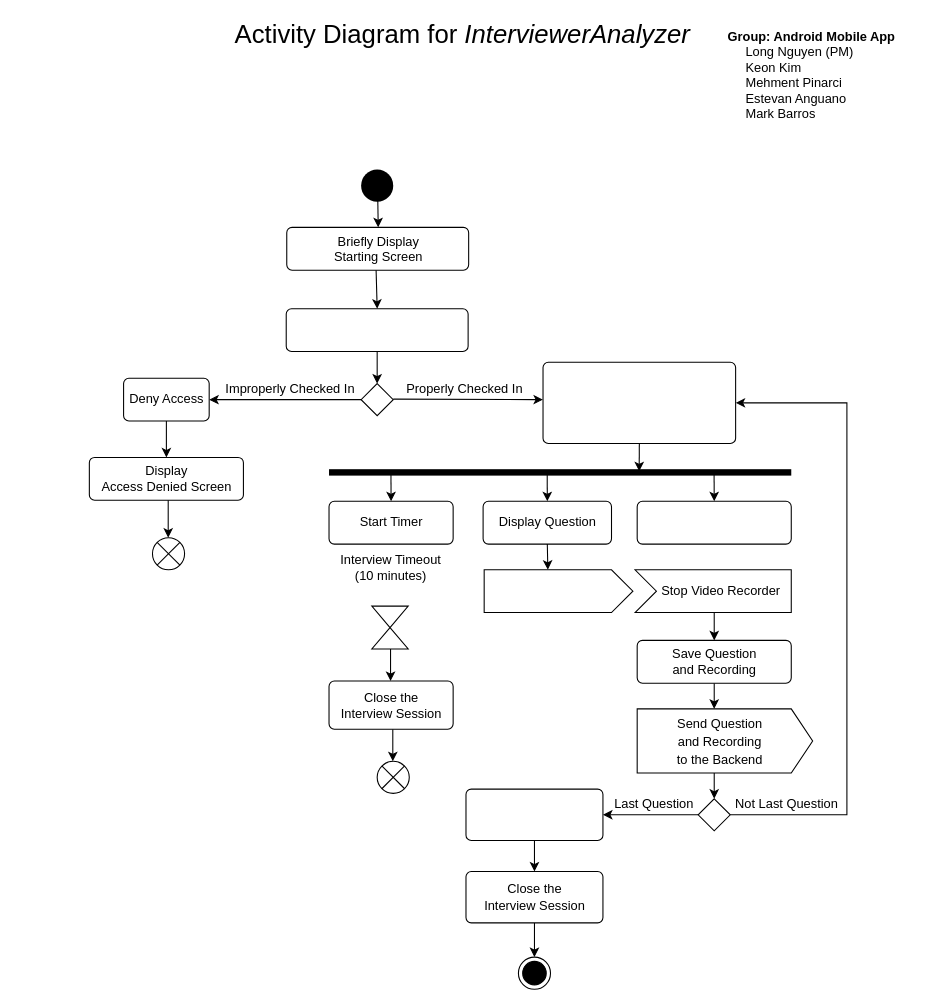
This 926x1008 diagram has some shape labels left out. Here are the shapes that lost their labels. From the top down, the centre of each, then its label:
At point (376, 329): "Display Checkin Screen (Request name and position)".
At point (639, 402): "Request Appropriate n th Question for Interviewee".
At point (713, 522): "Start Video Recorder".
At point (558, 591): "Question Answered".
At point (534, 814): "Briefly Display Closing Screen".
